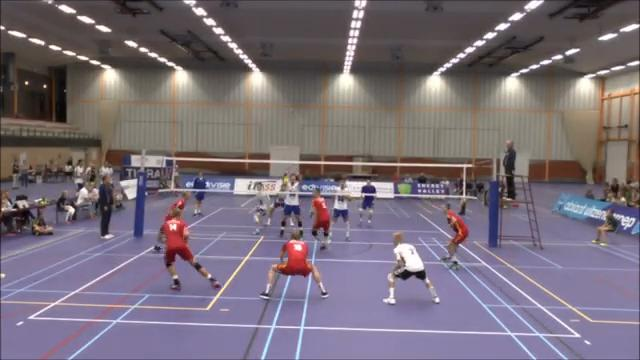ricezione: (256, 226, 329, 299)
